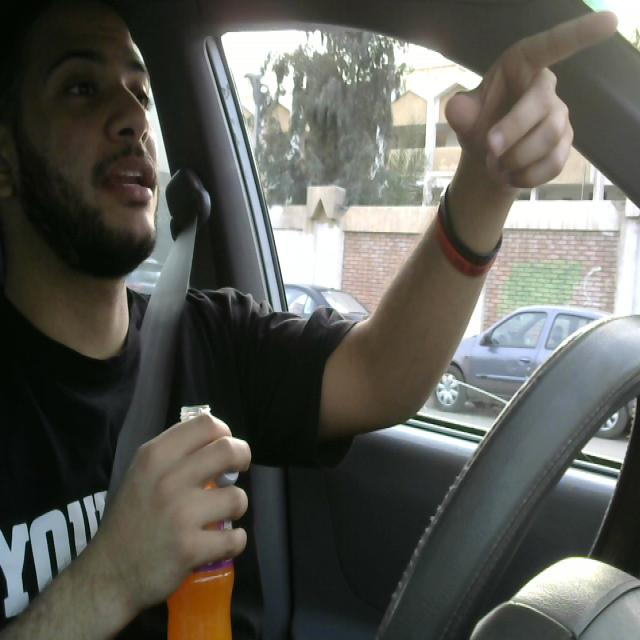drinking: (167, 403, 240, 640)
